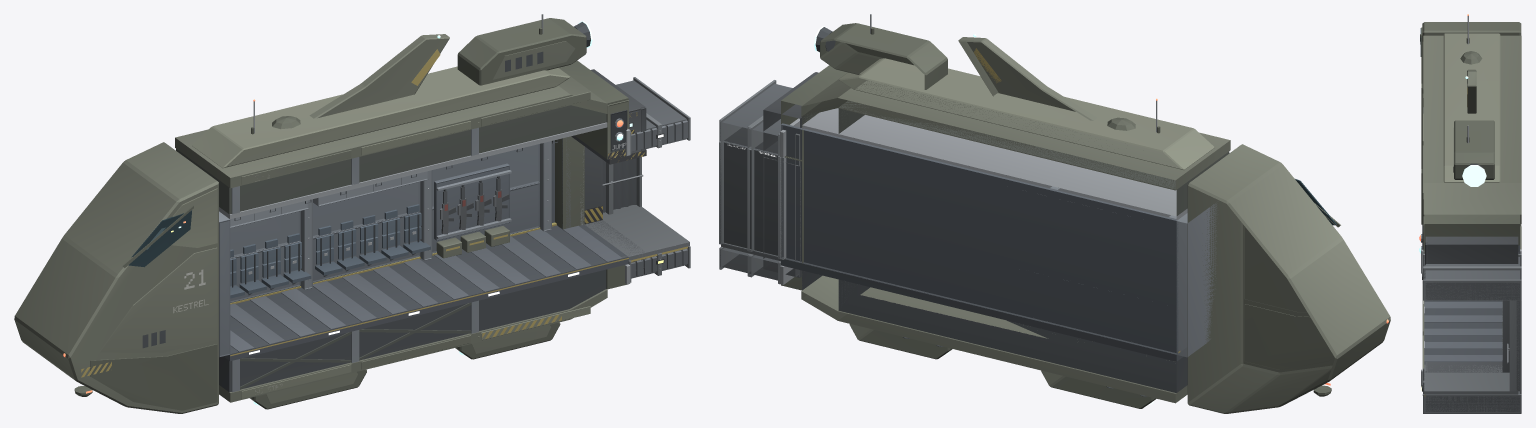
The model's file is dock.glb.
3 renders of one model, left to right at view 1: azimuth 30°, elevation 25°; view 2: azimuth 150°, elevation 25°; view 3: azimuth 270°, elevation 25°, orthographic. The views are drawn at different scales.
Parts seen in each view (by area): view 1: dropship, dock_tube, hull_dock; view 2: dropship, dock_tube, hull_dock; view 3: dropship, dock_tube, hull_dock.
Boxes of the visible parts, <box> form: dropship: <box>14,14,630,413</box>; dock_tube: <box>584,77,690,282</box>; hull_dock: <box>566,69,646,270</box>; dropship: <box>780,14,1390,413</box>; dock_tube: <box>719,80,792,284</box>; hull_dock: <box>763,72,818,277</box>; dropship: <box>1419,14,1521,387</box>; dock_tube: <box>1421,254,1521,413</box>; hull_dock: <box>1425,236,1518,372</box>.
Size of the model in its own units: 20.31 by 10.17 by 3.25.
